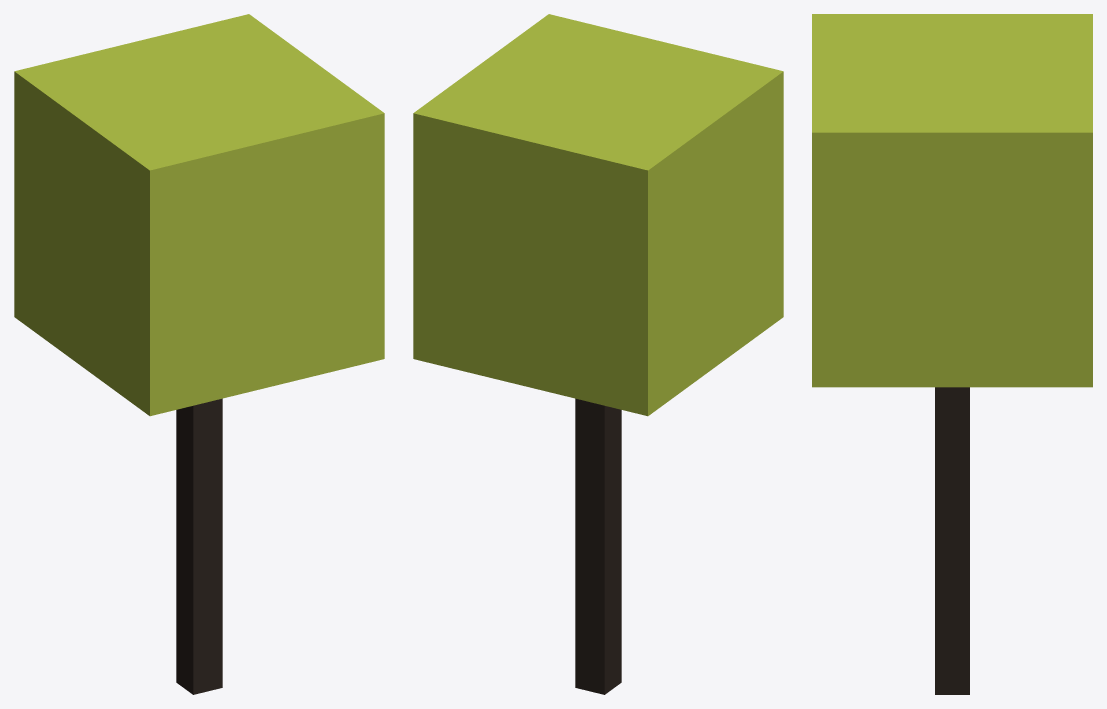
Rendered from tree_1.fbx.
The picture shows the model from 3 angles, left to right: view 1: azimuth 30°, elevation 25°; view 2: azimuth 150°, elevation 25°; view 3: azimuth 270°, elevation 25°; orthographic projection. The views are drawn at different scales.
Parts seen in each view (by area): view 1: Tree_1; view 2: Tree_1; view 3: Tree_1.
Boxes of the visible parts, x1=… form: Tree_1: x1=14, y1=14, x2=384, y2=694; Tree_1: x1=413, y1=14, x2=783, y2=694; Tree_1: x1=812, y1=14, x2=1092, y2=694.
Size of the model in its own units: 310 by 748 by 310.
